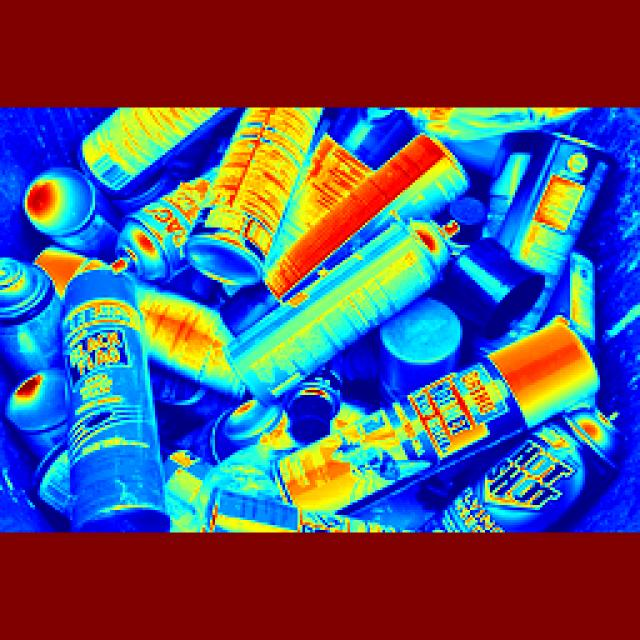Aerosol Cans: (279, 324, 604, 517), (215, 220, 487, 414), (53, 260, 179, 573), (512, 130, 610, 341)
